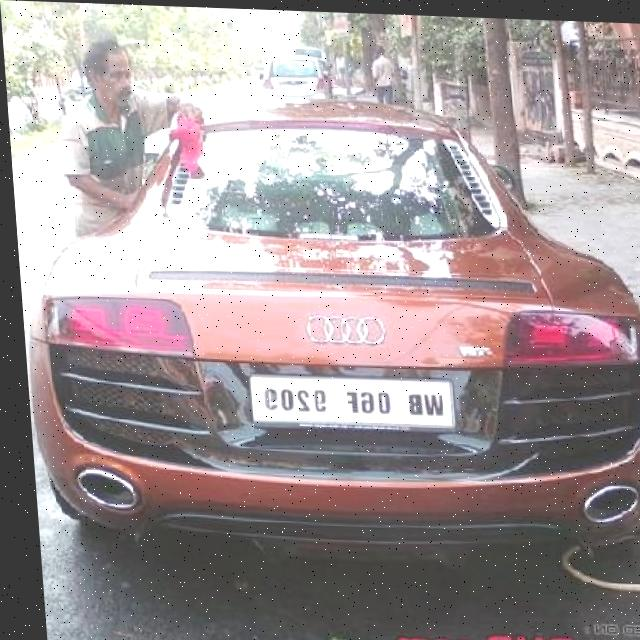plate: (243, 368, 453, 430)
